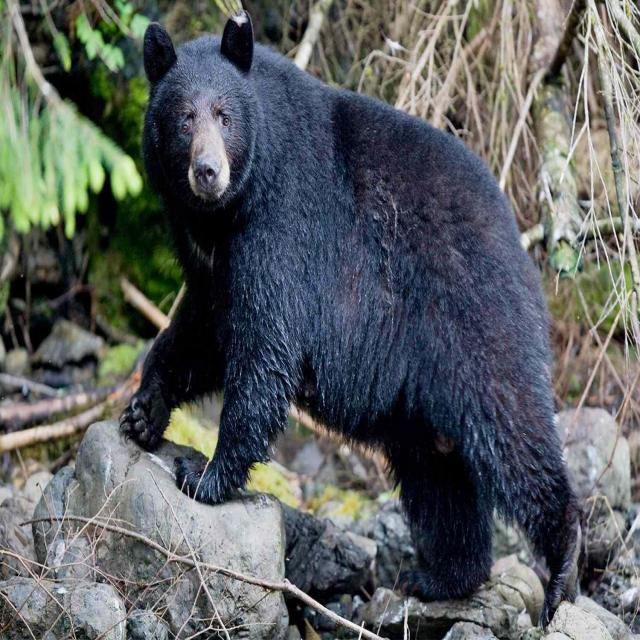Bear: (118, 12, 582, 631)
